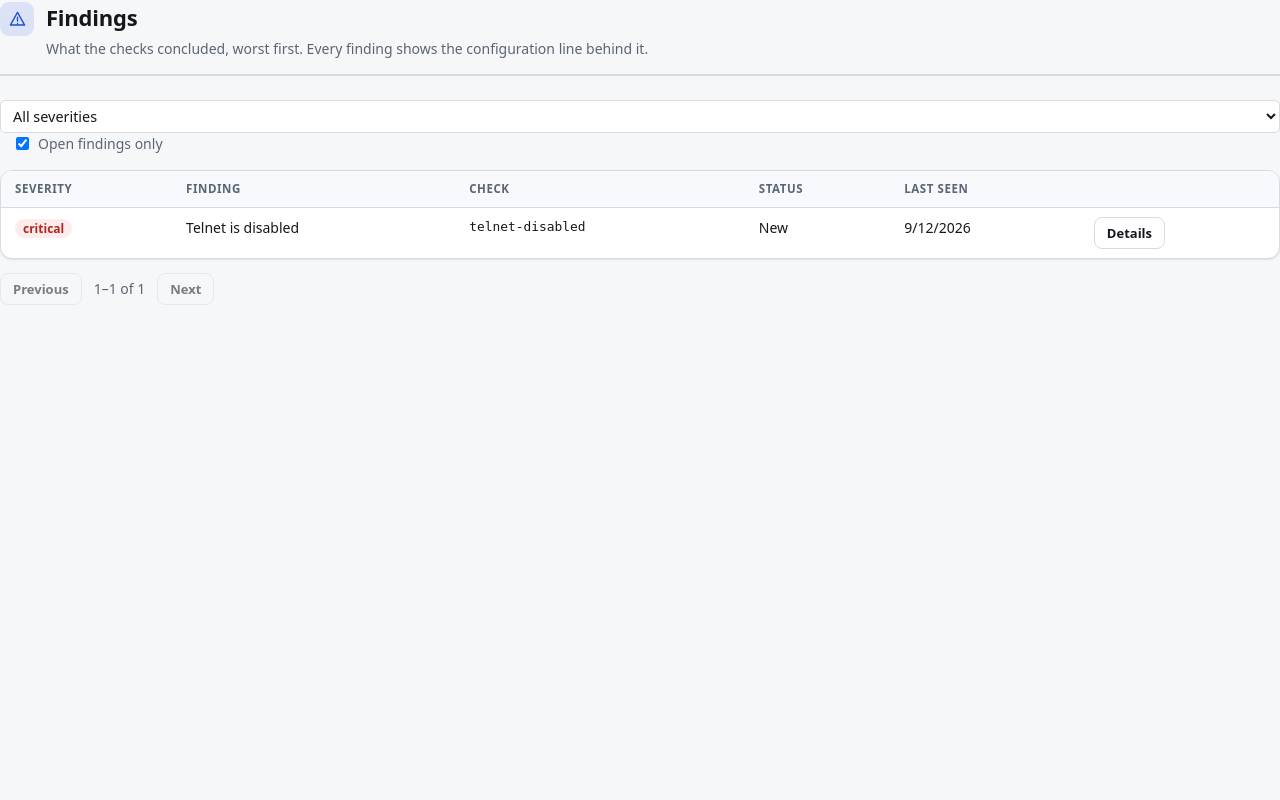
Test: FindingsPage › shows the configuration line behind the conclusion
This screenshot has width=1280, height=800.
Expected: the text "Telnet is disabled" is shown, x1=172 y1=207 x2=455 y2=258
Click the button with aria-label "Details for Telnet is disabled": point(1129, 233) x1=1094 y1=217 x2=1165 y2=249
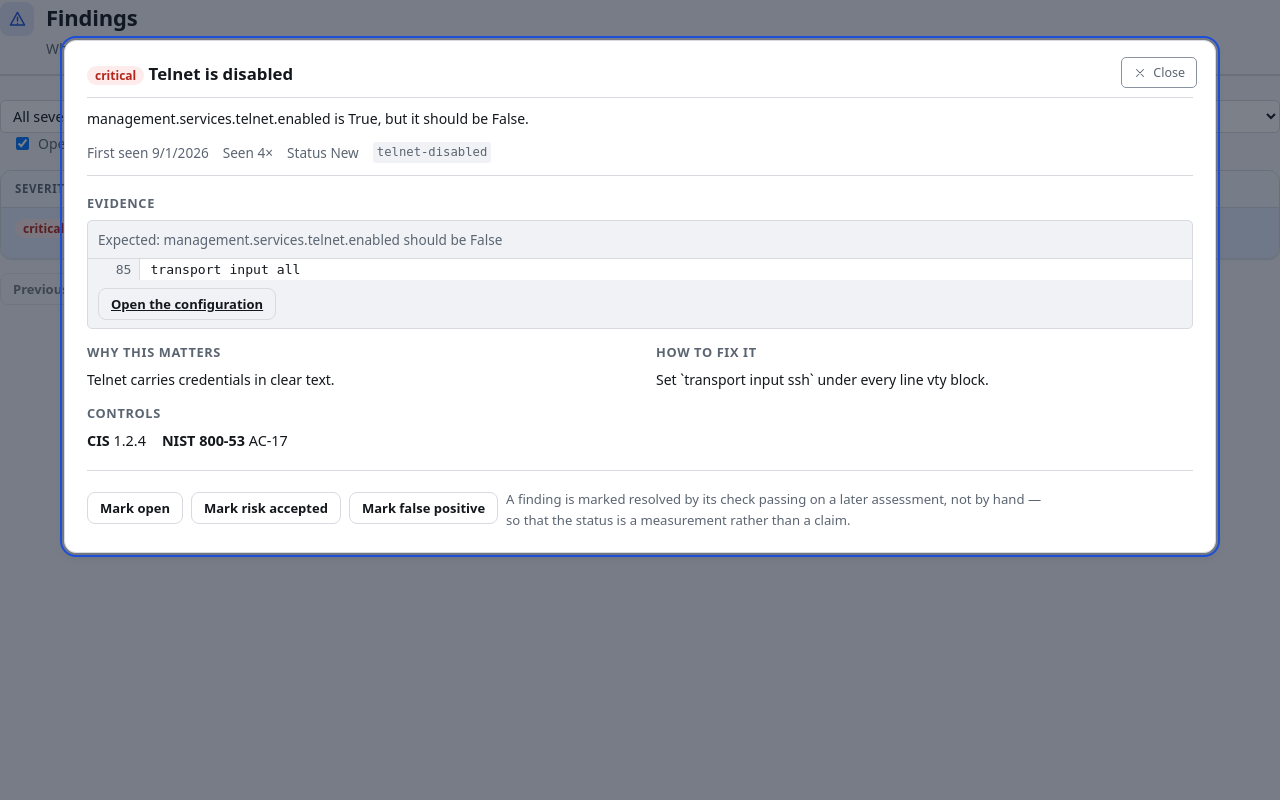
Expected: the heading "Evidence" is shown, x1=87 y1=194 x2=155 y2=212
Expected: the text "85" is shown, x1=88 y1=259 x2=140 y2=280
Expected: the text "transport input all" is shown, x1=140 y1=259 x2=310 y2=280
